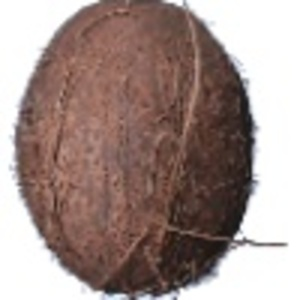coco: (10, 1, 284, 300)
